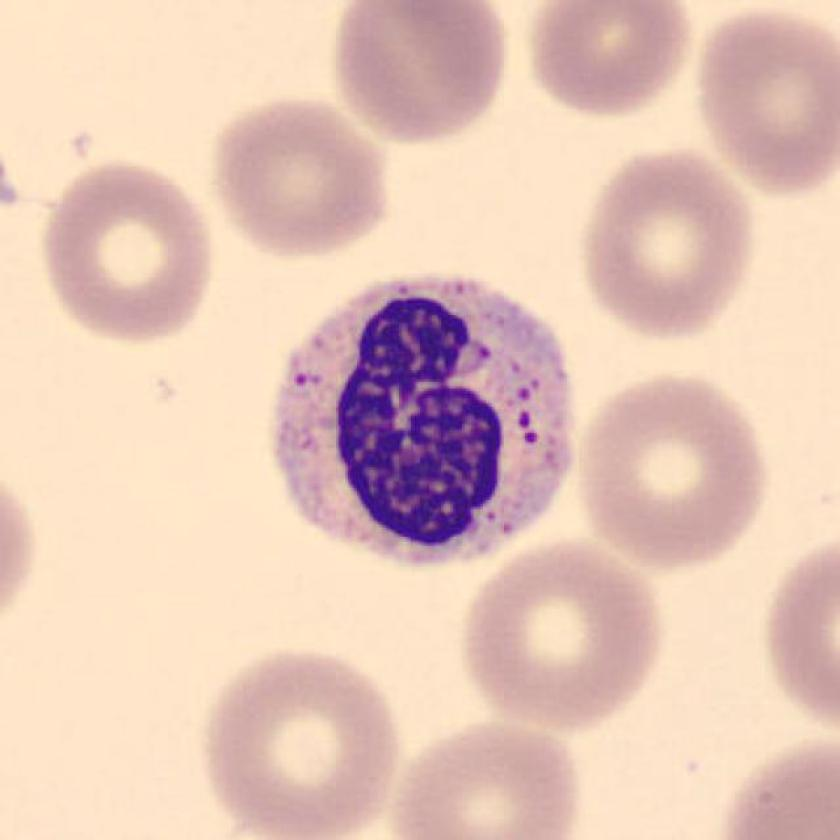neutrophil: (273, 274, 571, 565)
